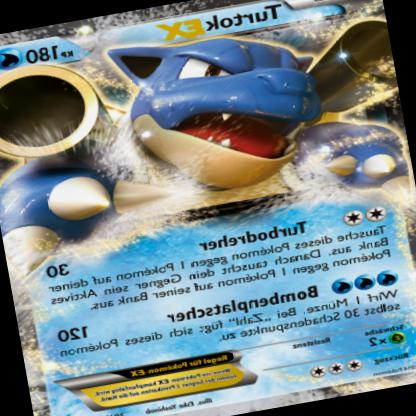Blastoise: (1, 8, 416, 263)
